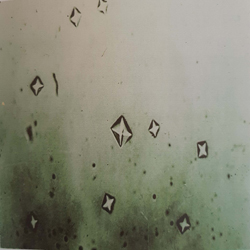Crystal: (105, 111, 136, 150), (25, 70, 46, 98), (66, 5, 84, 34), (192, 137, 212, 163), (176, 212, 195, 238), (145, 114, 162, 141), (100, 189, 117, 215), (26, 211, 41, 230), (94, 1, 113, 15)
